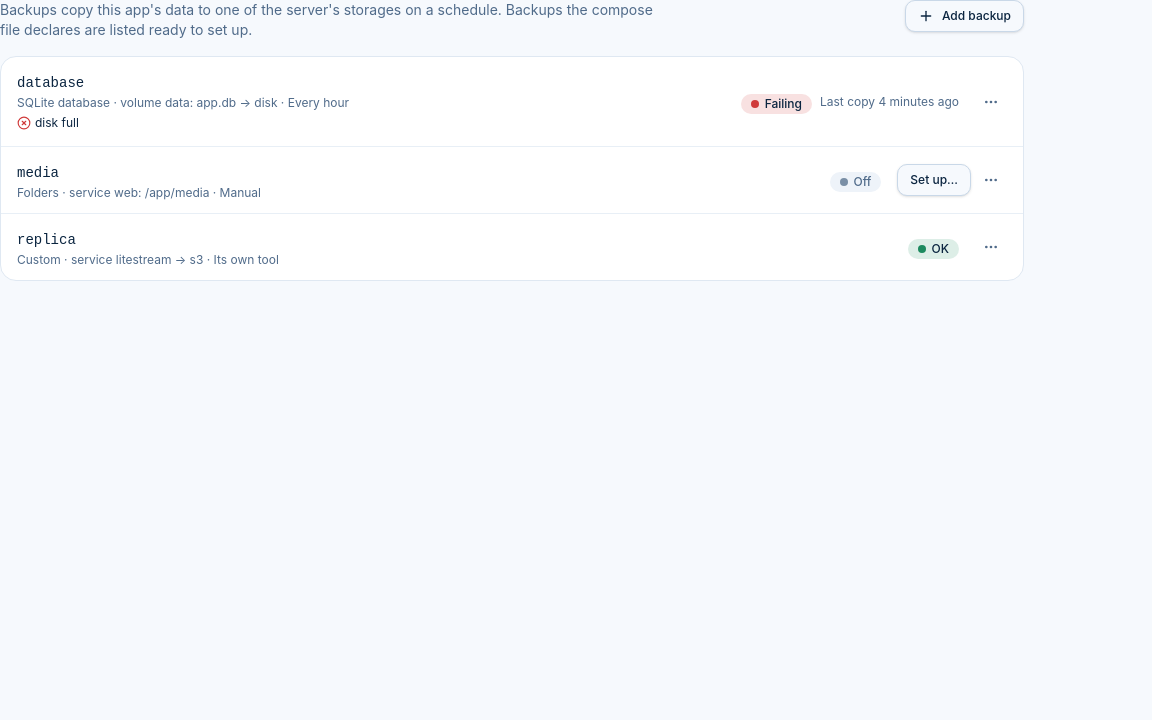
Scenario: AppBackups › can't turn a backup without a storage on from Edit, and leads to the storage picker
Click the button named "Actions for media" at (991, 180), box x1=975 y1=164 x2=1007 y2=196
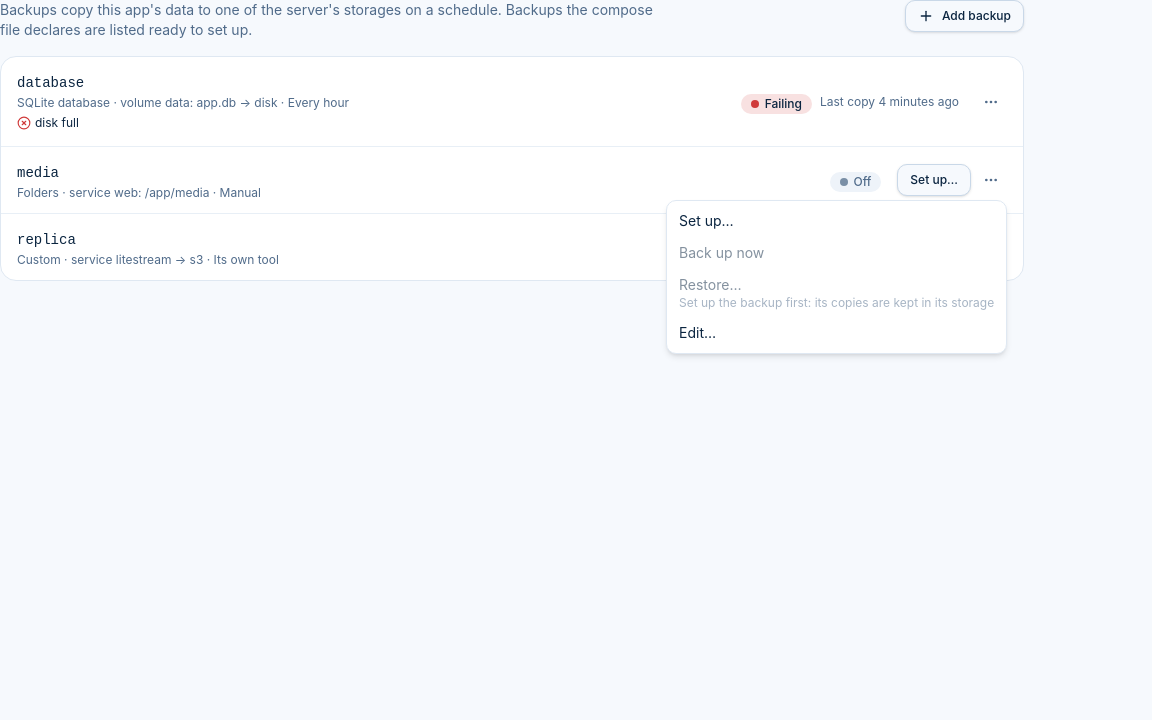
Click the menu item "Edit…" at (698, 332), box x1=679 y1=324 x2=716 y2=341
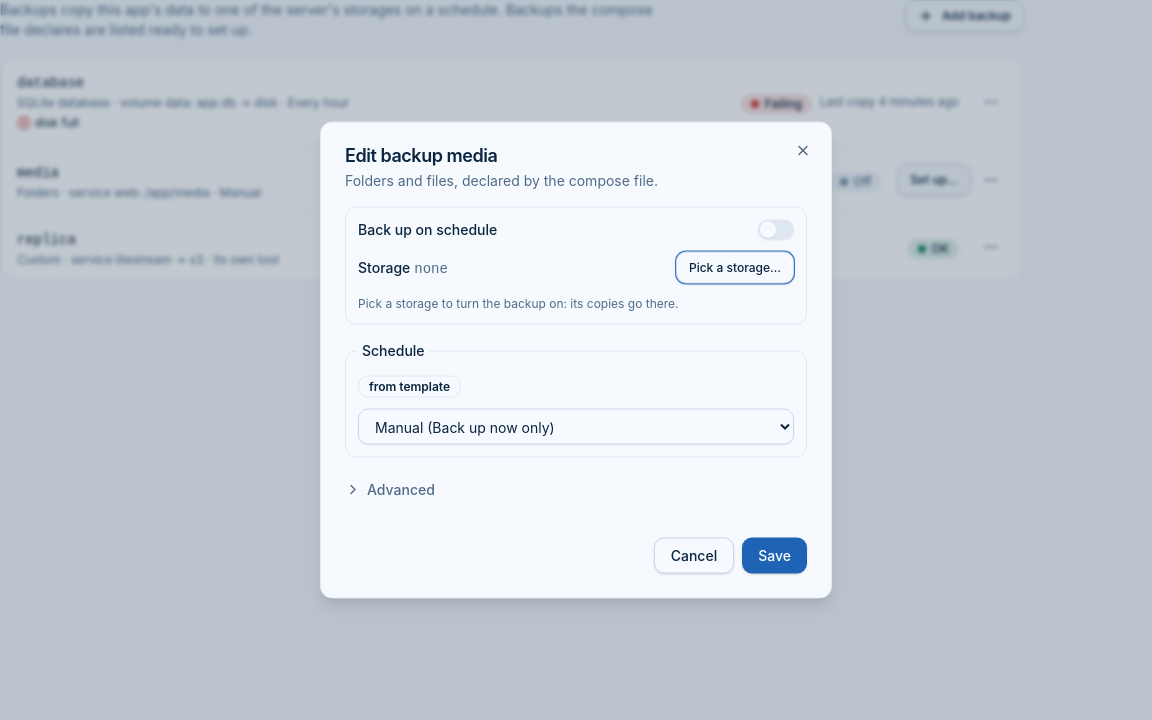
Expected: the switch named "Back up on schedule" is disabled, x1=758 y1=220 x2=794 y2=240
Click the button "Pick a storage…" at (735, 268), box x1=676 y1=252 x2=794 y2=284
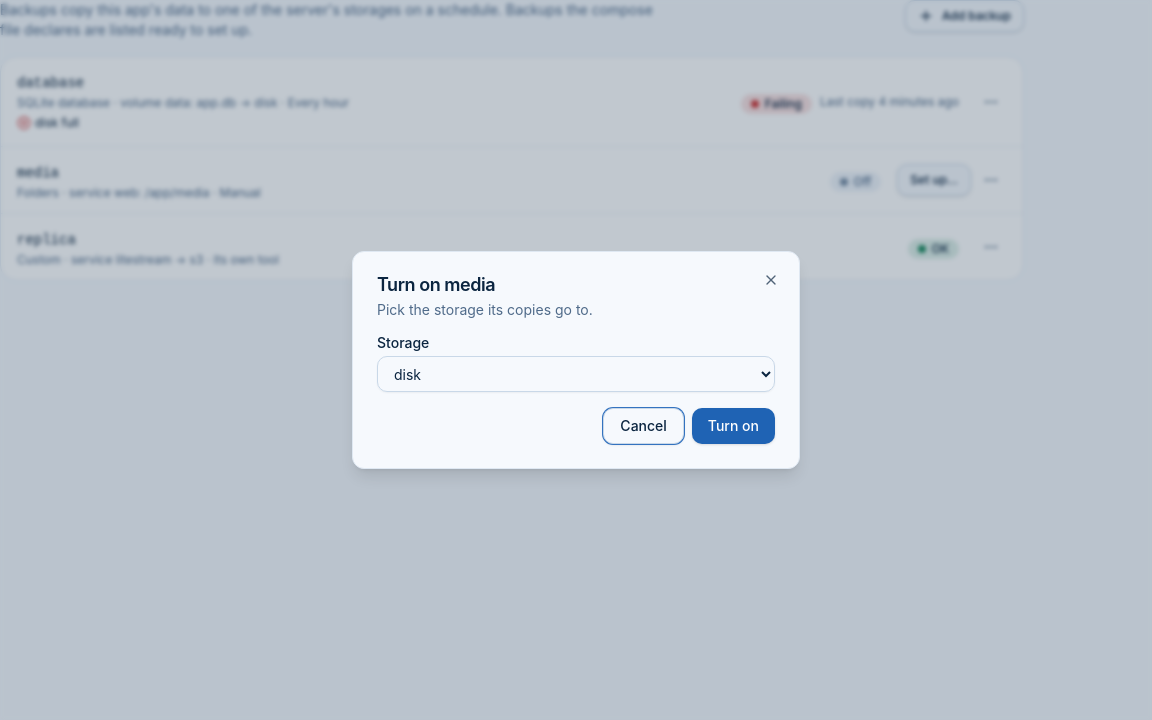
Expected: the heading "Turn on media" is shown, x1=377 y1=274 x2=495 y2=295
